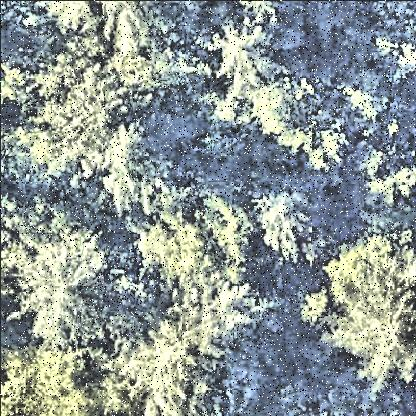tree-top: (304, 228, 416, 379), (131, 195, 263, 285), (21, 237, 122, 345), (120, 314, 209, 414), (169, 272, 261, 358), (41, 73, 118, 173), (2, 347, 103, 416), (198, 16, 279, 96), (98, 131, 169, 208), (246, 76, 309, 150), (253, 189, 323, 255), (105, 1, 178, 61), (43, 1, 93, 36)
